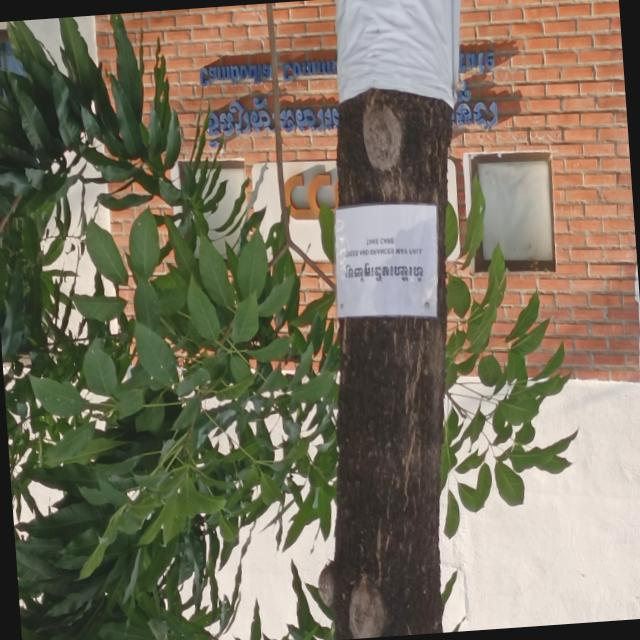Yolov11_80vkh: (344, 259, 427, 283)
